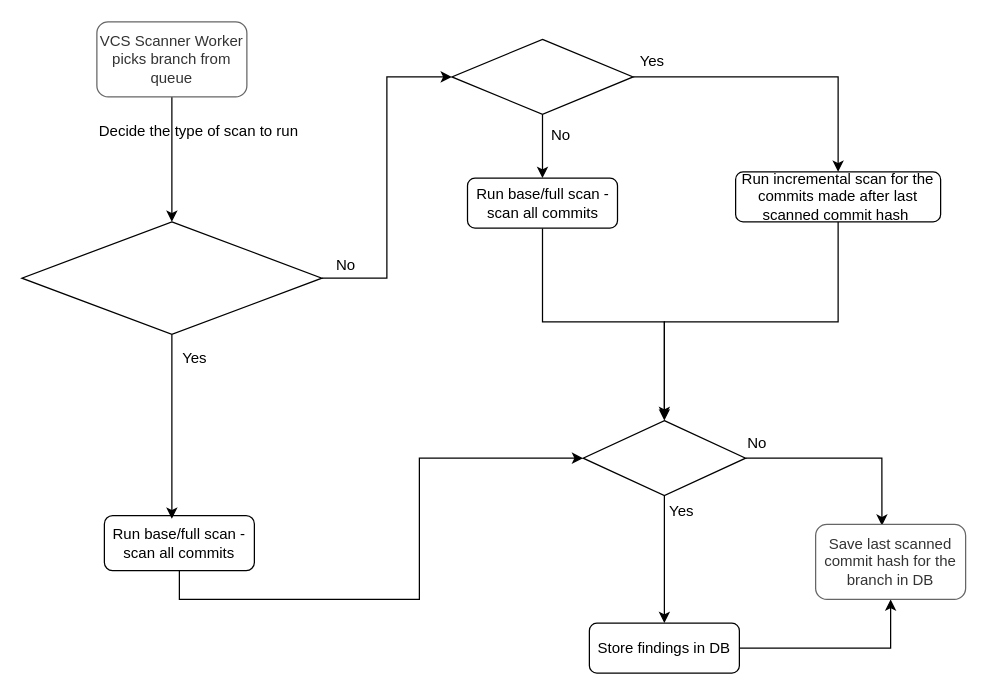
This 988x695 diagram has some shape labels left out. Here are the shapes that lost their labels. From the top down, the centre of each, then its label:
the point at 542,76: Branch scanned earlier?
the point at 171,277: Force BASE scan enabled?
the point at 664,457: Secrets found?
